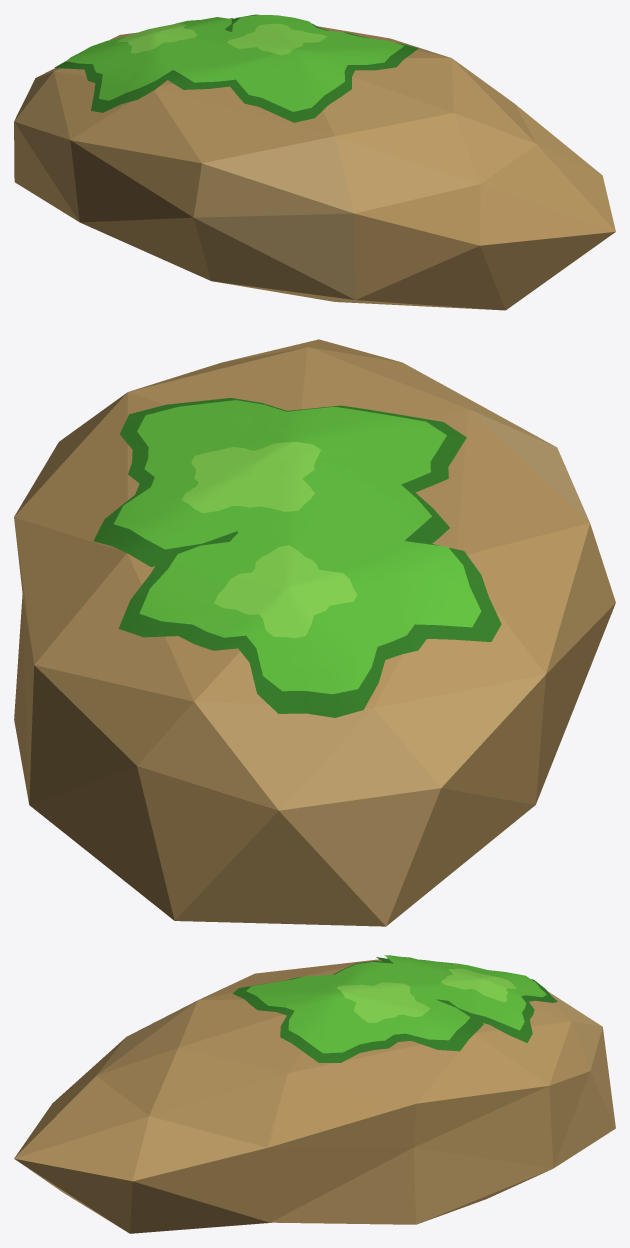
Rendered from rock_4_clover.glb.
3 views of the same model, one above another, from view 1: azimuth 30°, elevation 25°; view 2: azimuth 150°, elevation 25°; view 3: azimuth 270°, elevation 25° (orthographic). The views are drawn at different scales.
Parts seen in each view (by area): view 1: rock_4_clover; view 2: rock_4_clover; view 3: rock_4_clover.
Part boxes in pixels (x1,y1,x2,y2): rock_4_clover: (14,14,615,310); rock_4_clover: (14,339,615,926); rock_4_clover: (14,955,615,1233).
Bounding box in the file's own units: 1.62 × 0.7902 × 2.23.
